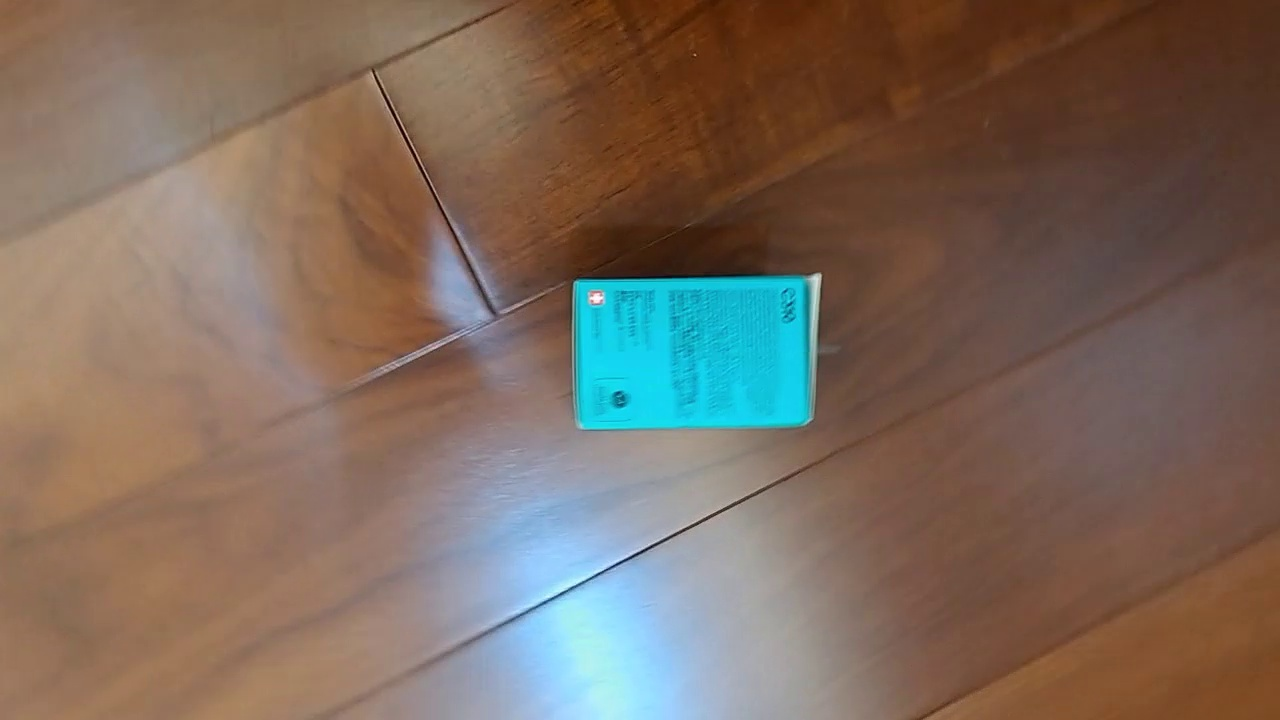webcam: (569, 271, 822, 431)
